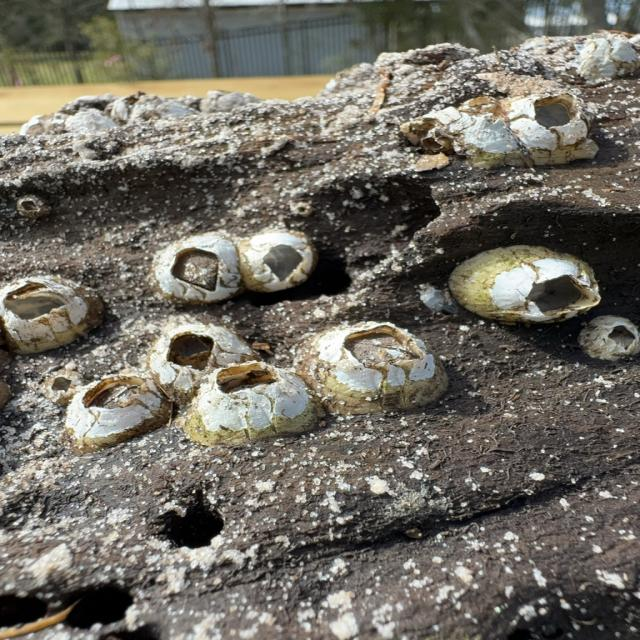barnacles: (294, 318, 451, 420), (446, 239, 598, 327), (190, 361, 327, 449), (67, 365, 165, 455), (0, 269, 104, 349), (500, 88, 608, 165), (137, 318, 245, 387), (147, 228, 240, 303), (235, 226, 322, 302), (583, 312, 637, 370), (12, 192, 55, 224)
